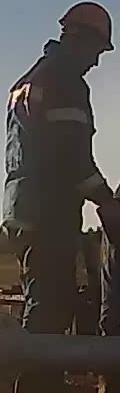helmet: (56, 0, 118, 53)
vest: (2, 54, 95, 241)
